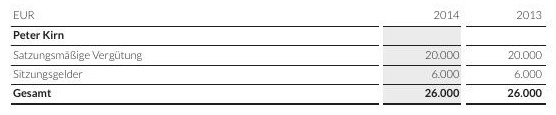table: (0, 0, 556, 115)
